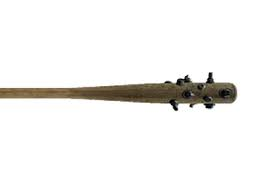baseball bat: (1, 82, 237, 105)
